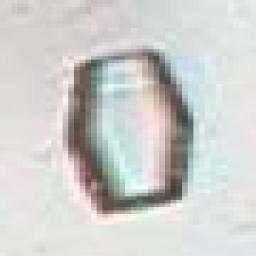crystals: (67, 54, 196, 218)
